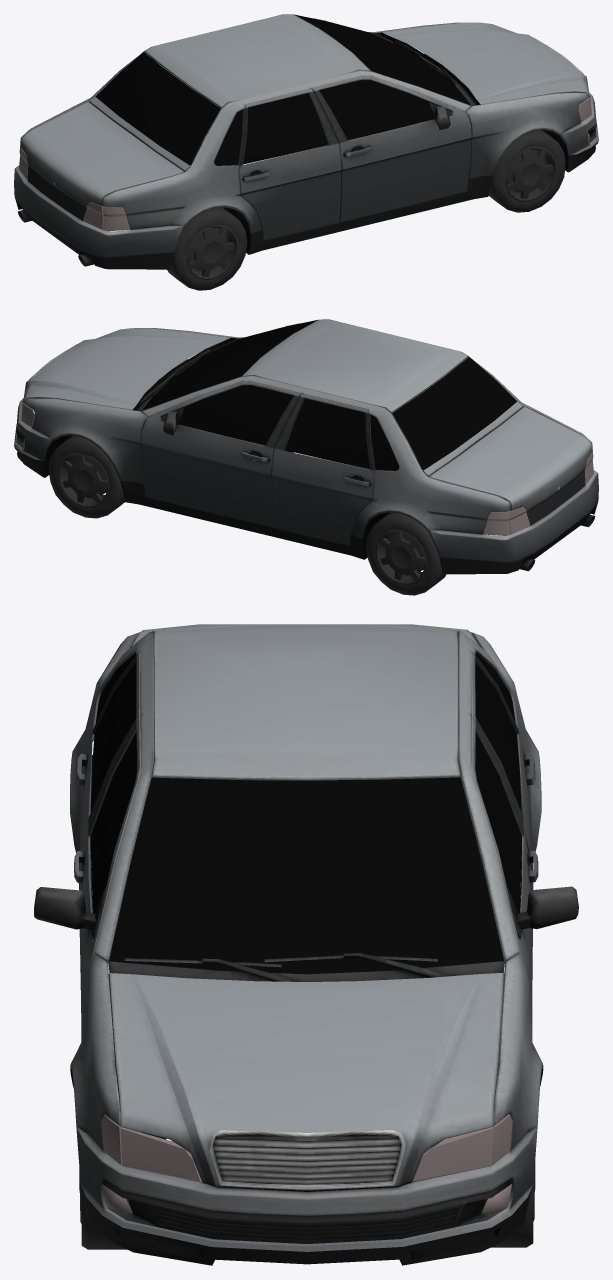
The model's file is pc-sedan-silver.lod0.glb.
3 renders of one model, top to bottom at view 1: azimuth 30°, elevation 25°; view 2: azimuth 150°, elevation 25°; view 3: azimuth 270°, elevation 25°, orthographic. The views are drawn at different scales.
Visible parts, largest first — view 1: Sedan Body_Body_0, Sedan Body_Glass_0; view 2: Sedan Body_Body_0, Sedan Body_Glass_0; view 3: Sedan Body_Body_0, Sedan Body_Glass_0.
Boxes of the visible parts, left/top/right/bottom form: Sedan Body_Body_0: left=14, top=14, right=598, bottom=269; Sedan Body_Glass_0: left=19, top=14, right=591, bottom=290; Sedan Body_Body_0: left=14, top=319, right=598, bottom=574; Sedan Body_Glass_0: left=21, top=320, right=593, bottom=595; Sedan Body_Body_0: left=34, top=624, right=578, bottom=1265; Sedan Body_Glass_0: left=79, top=653, right=535, bottom=1249.
Size of the model in its own units: 4.36 by 1.34 by 1.94.
2 materials, 1 textured.
